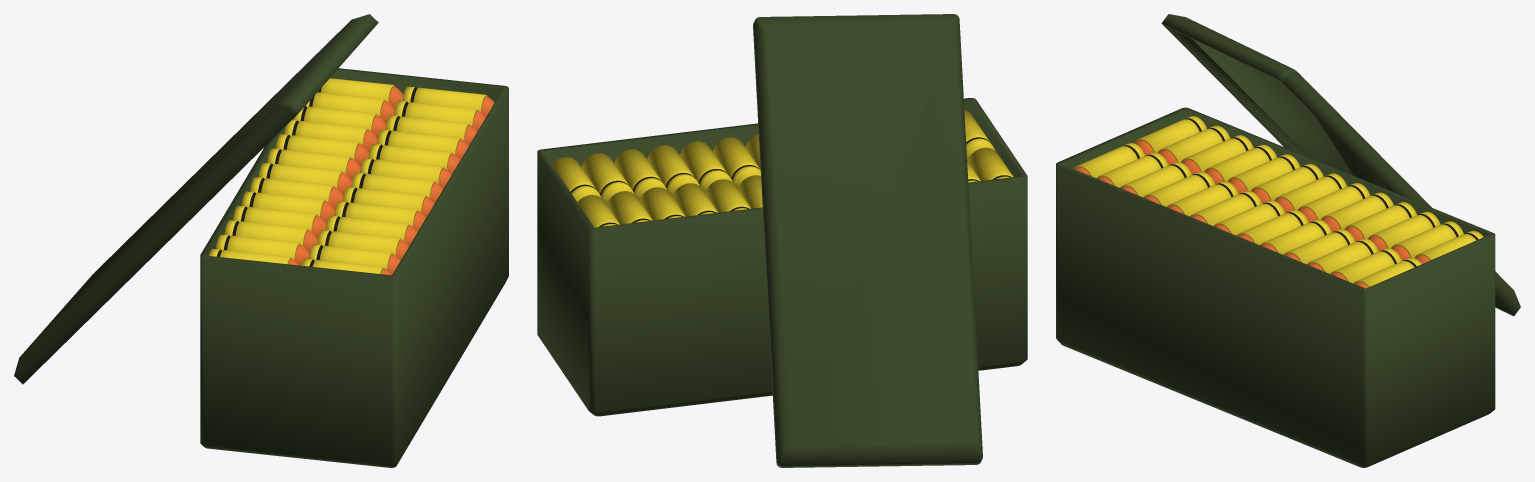
File: SMGAmmo.fbx
3 views of the same model, side by side, from view 1: azimuth 30°, elevation 25°; view 2: azimuth 150°, elevation 25°; view 3: azimuth 270°, elevation 25° (orthographic). The views are drawn at different scales.
Visible parts, largest first — view 1: AmmoCrate; view 2: AmmoCrate; view 3: AmmoCrate.
Part boxes in pixels (x1,y1,x2,y2): AmmoCrate: [14, 14, 508, 467]; AmmoCrate: [537, 14, 1027, 467]; AmmoCrate: [1056, 14, 1520, 467].
Bounding box in the file's own units: 43.28 × 39.49 × 30.05.
